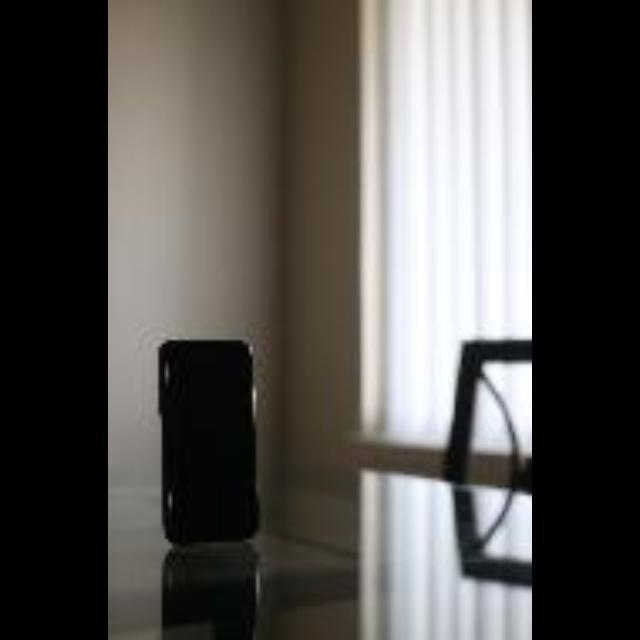phone: (159, 326, 259, 640)
